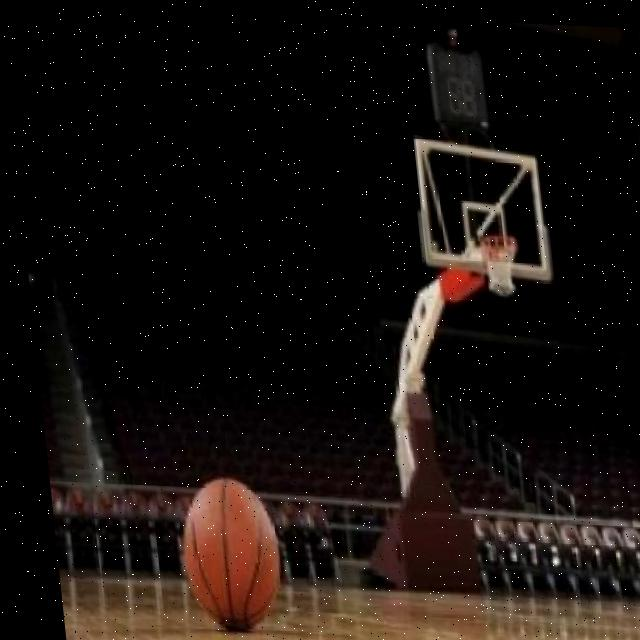basketball: (176, 476, 286, 631)
hoop: (478, 234, 524, 299)
